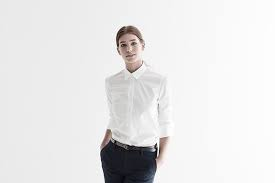F_belt: (107, 139, 160, 155)
F_shirt: (96, 59, 181, 149)
